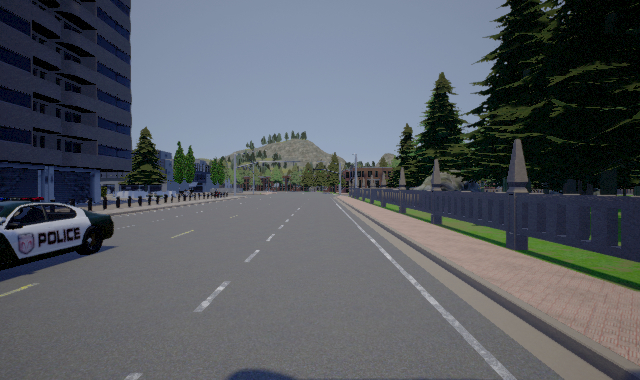vehicle: (1, 197, 114, 268)
